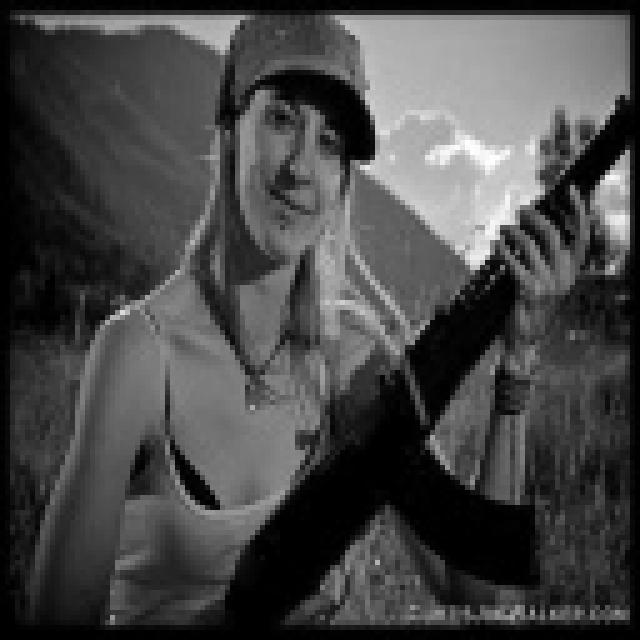Rifle: (188, 65, 640, 640)
